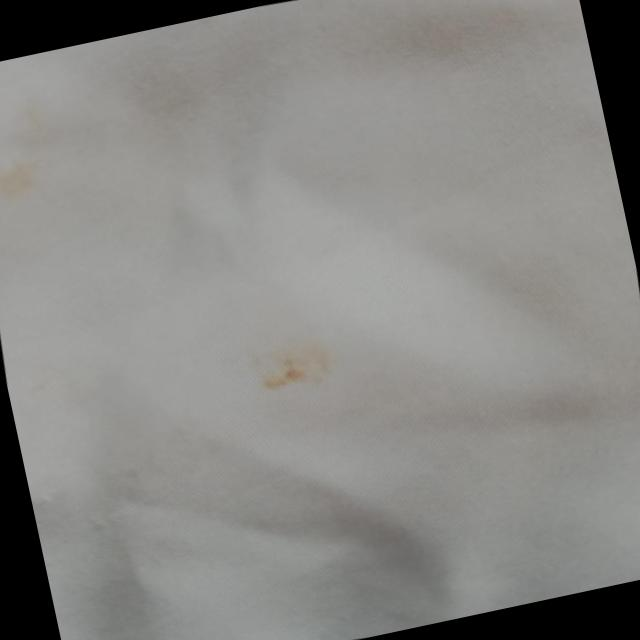stain: (0, 79, 90, 215), (230, 317, 358, 411)
